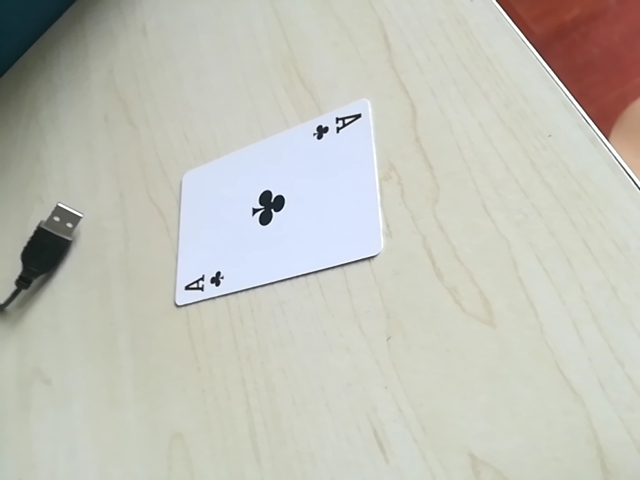mh a: (308, 109, 371, 146), (175, 265, 227, 303)
